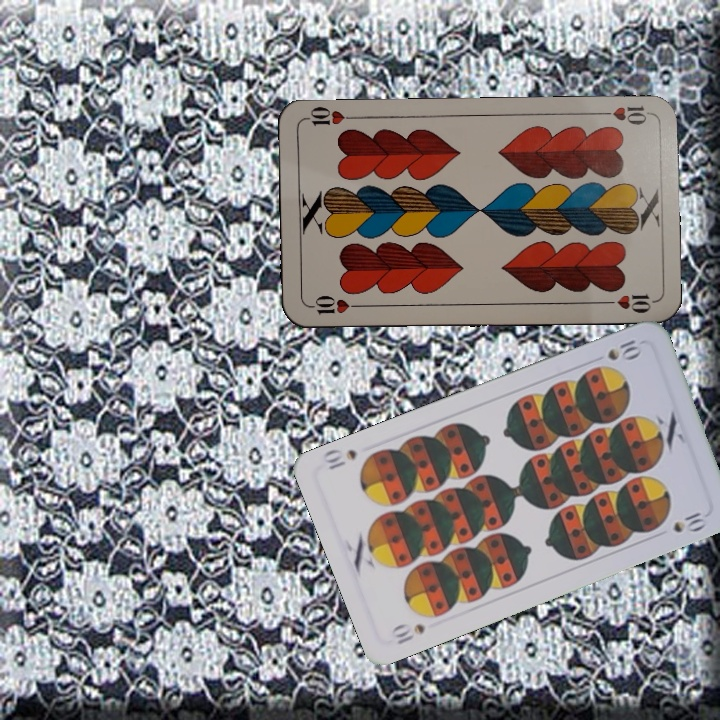H10: (306, 293, 365, 318), (593, 102, 652, 127)
S10: (603, 335, 645, 363), (387, 619, 428, 647)
